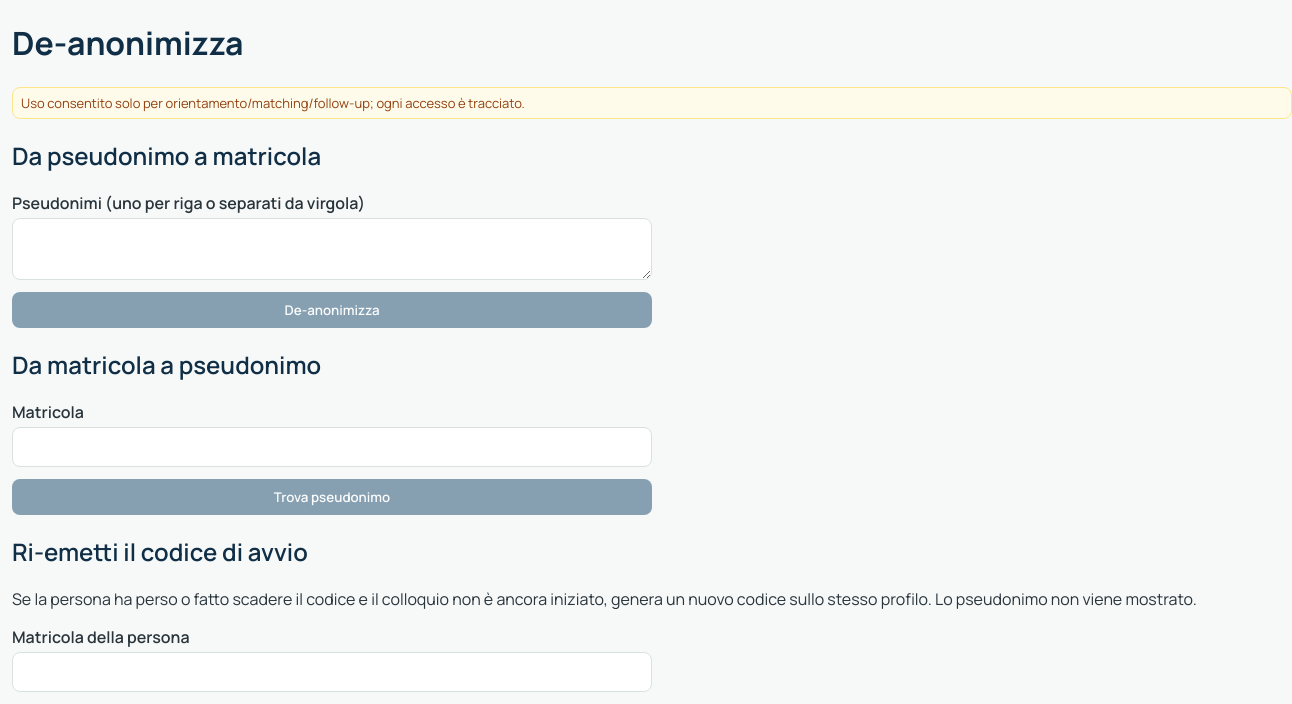
Test: pasting pseudonyms and resolving shows the matricole in a table
This screenshot has width=1292, height=704.
Type "P-4F2A, P-9B1C" into the text box labelled "Pseudonimi (uno per riga o separati da virgola)" at point(332, 249), box left=12, top=218, right=652, bottom=280
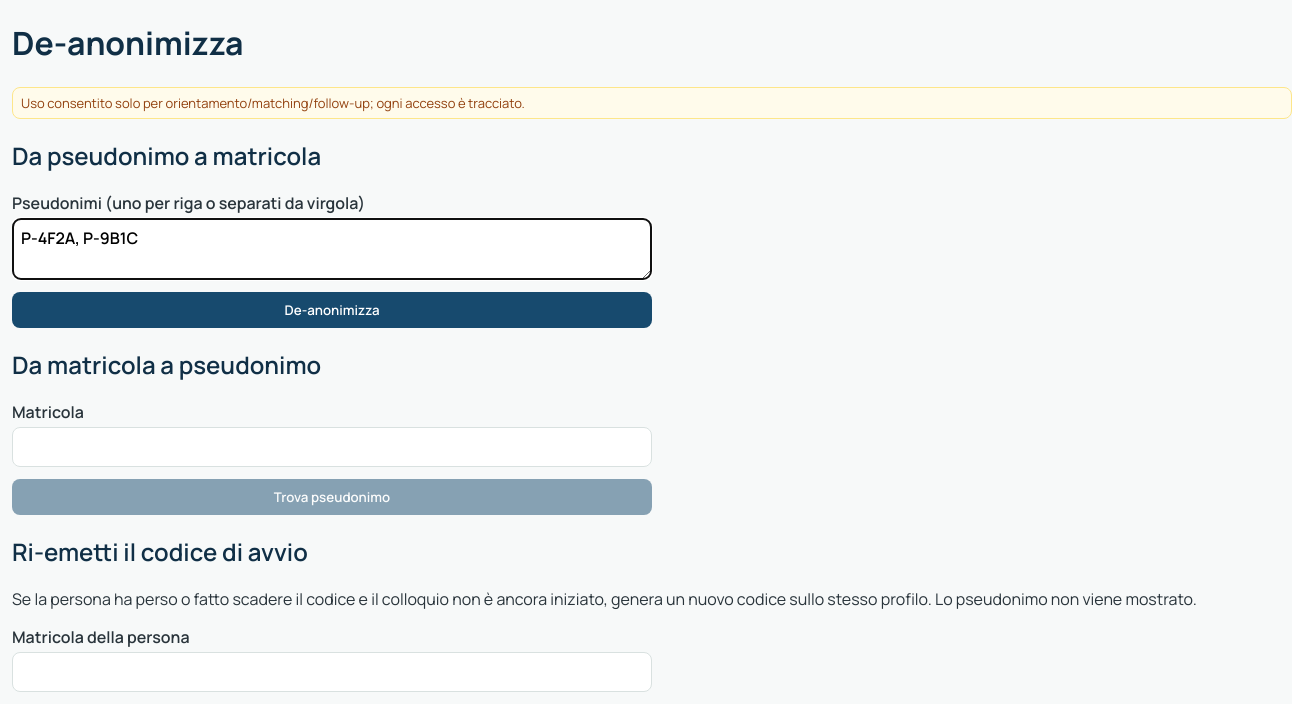
Click the button "De-anonimizza" at point(332, 310), box left=12, top=292, right=652, bottom=328
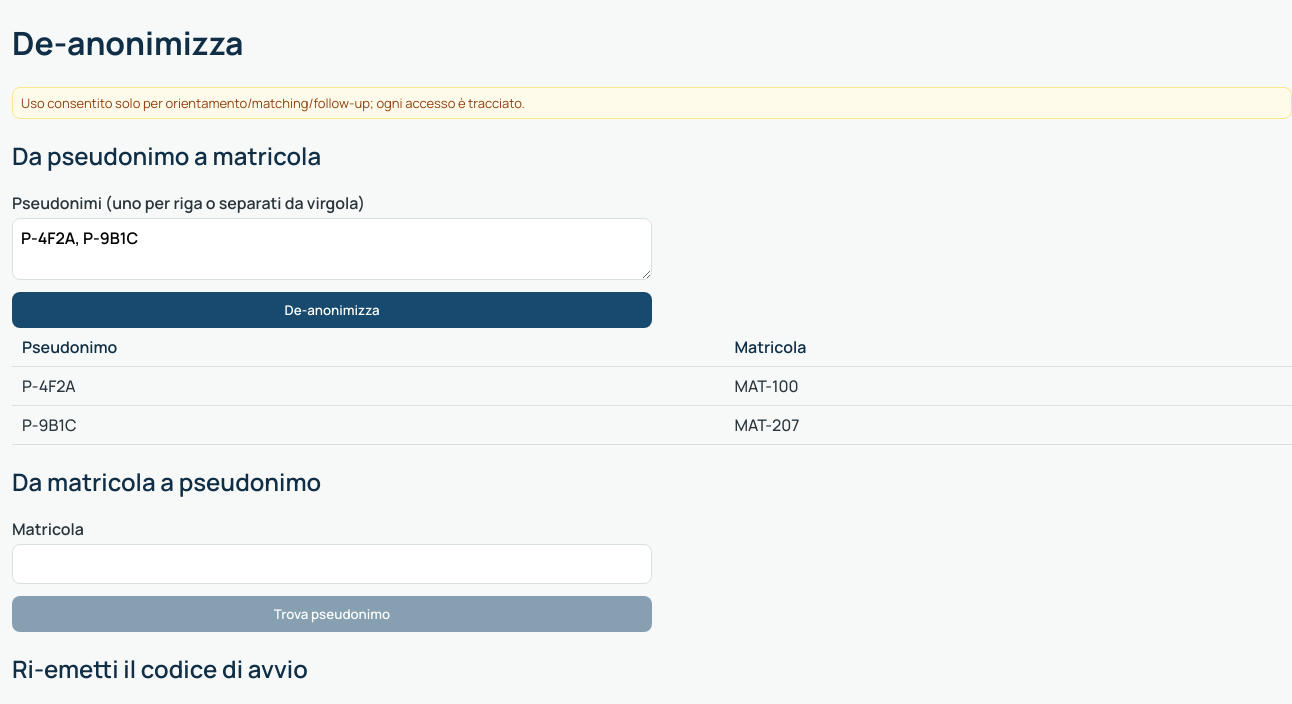
Check: the text "MAT-100" is shown, box left=724, top=366, right=1291, bottom=405
Check: the text "MAT-207" is shown, box left=724, top=405, right=1291, bottom=444
Check: the text "P-4F2A" is shown, box left=12, top=366, right=724, bottom=405
